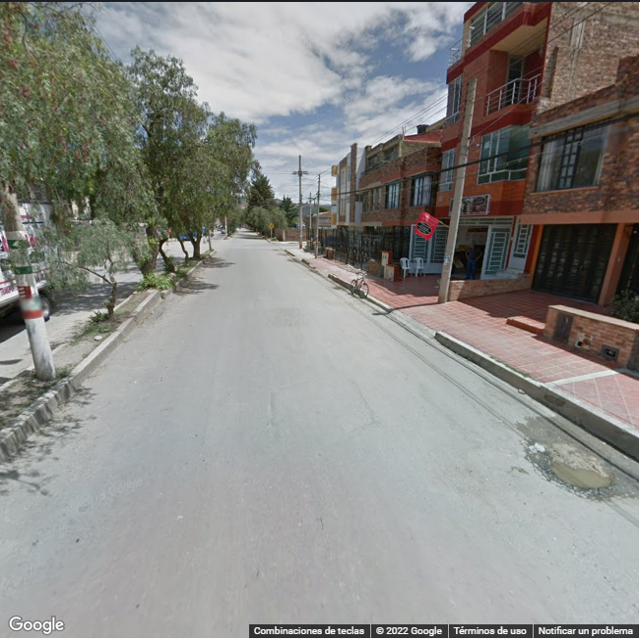D00: (419, 392, 484, 448)
D40: (533, 440, 621, 490)
